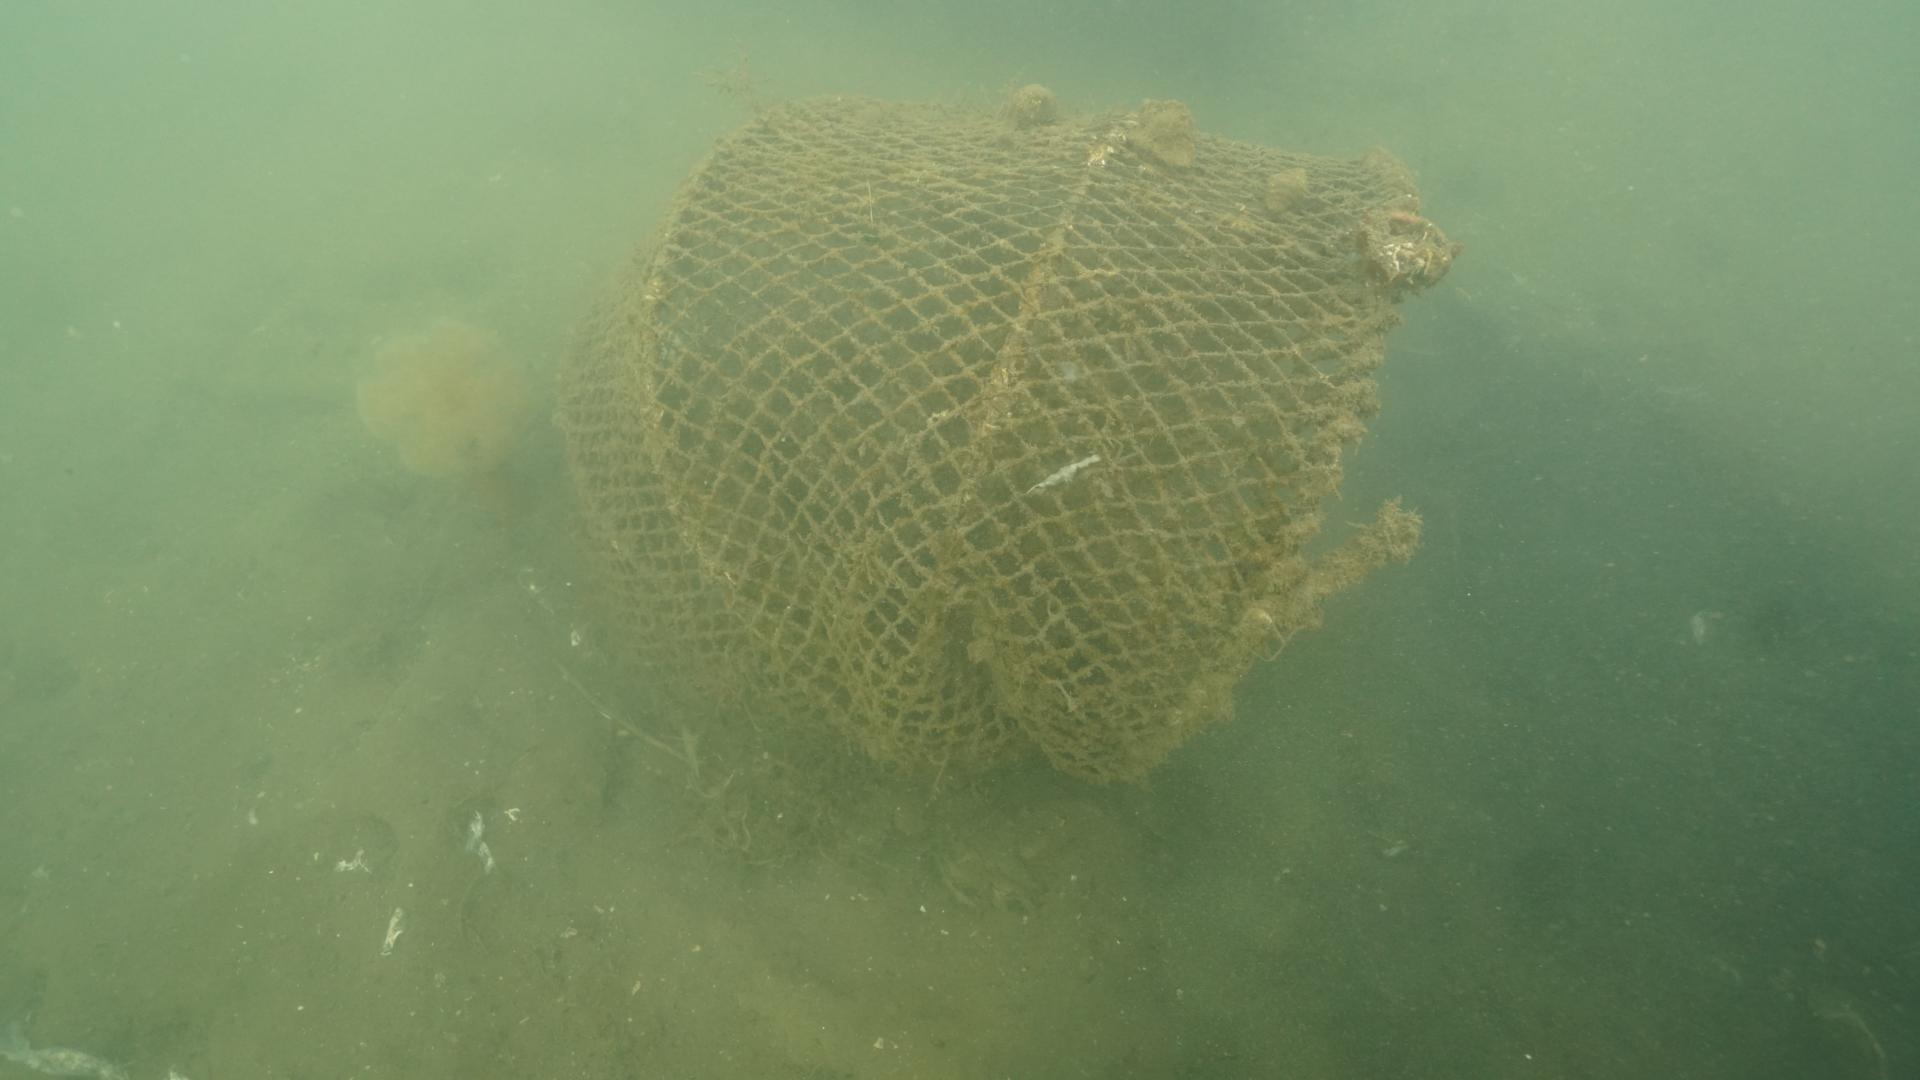spring fish trap: (554, 84, 1423, 806)
